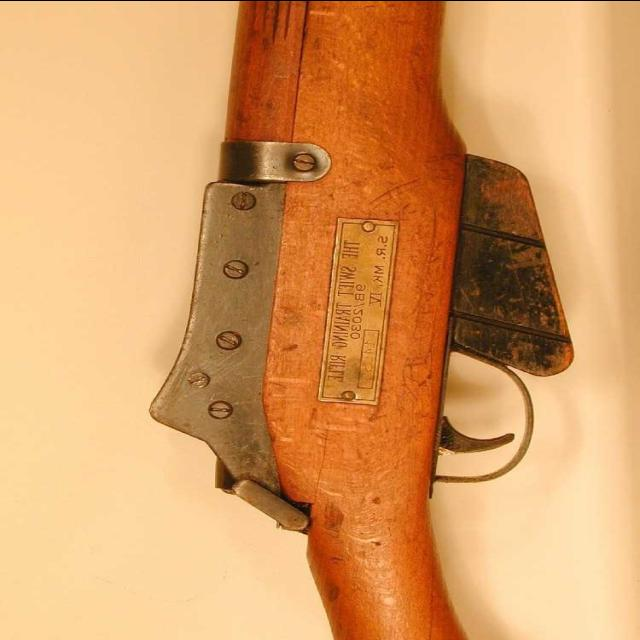heavyweapon: (164, 2, 580, 612)
